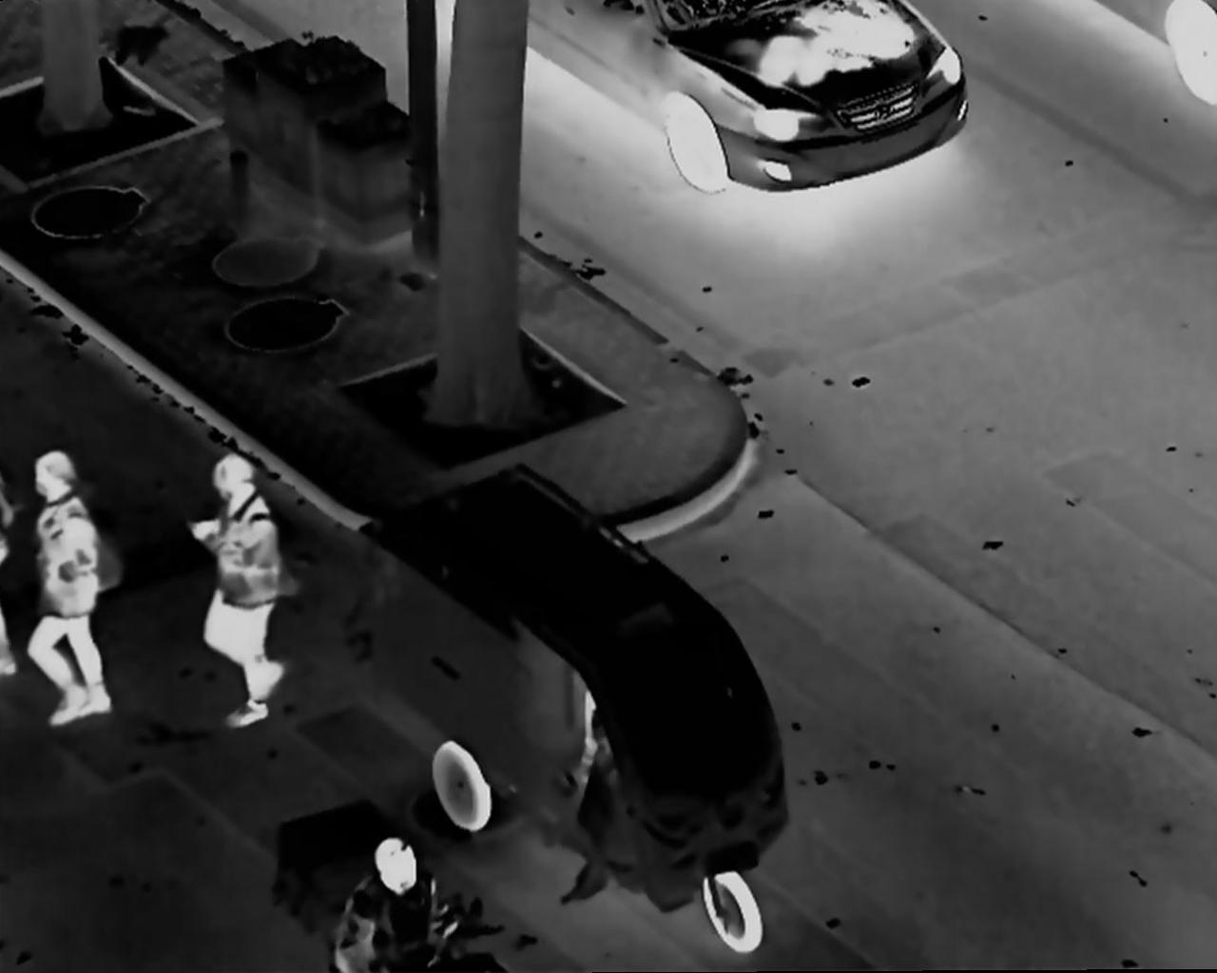person: (190, 449, 298, 732), (29, 444, 118, 735), (336, 831, 448, 973)
